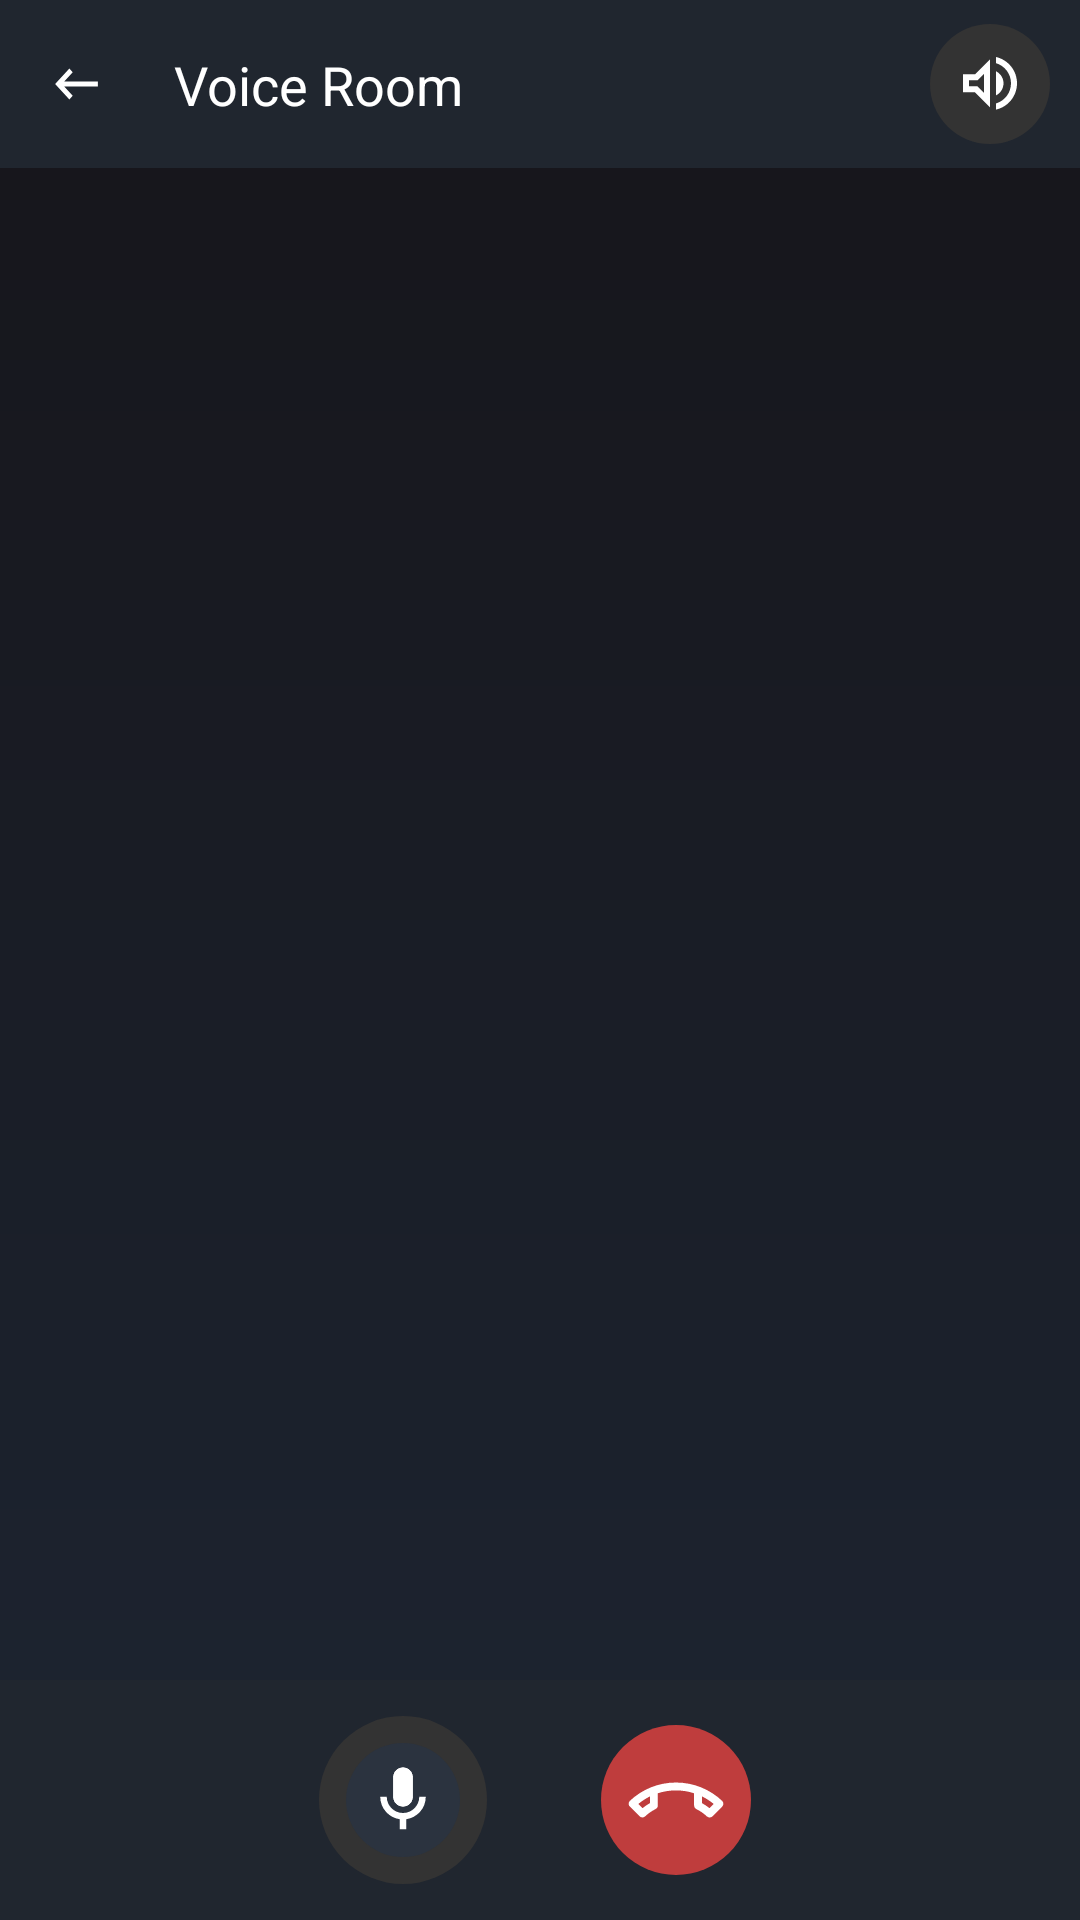

Icons on this 1080 × 1920 Android screen, each with the point to tap as (x=x, y=y):
Back: (x=76, y=84)
End call: (x=676, y=1800)
Mute: (x=403, y=1800)
Speaker toggle: (x=990, y=84)
